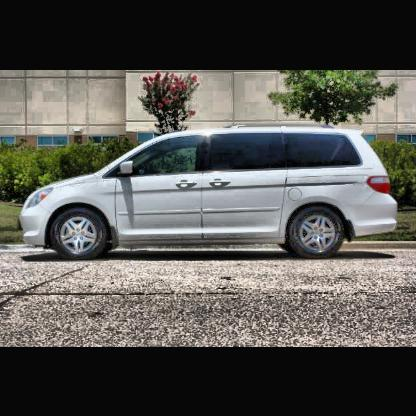Honda Odyssey Minivan 2007: (18, 131, 402, 263)
